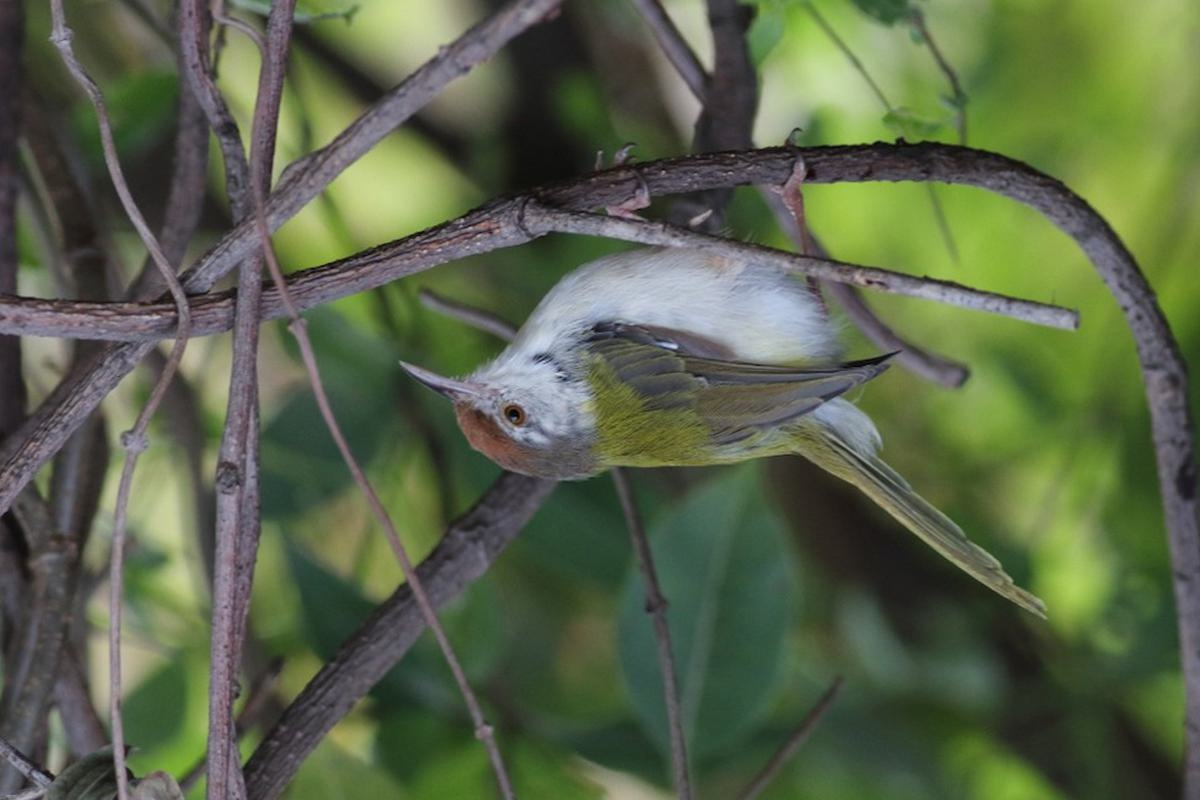tailorbird: (378, 183, 1037, 481)
